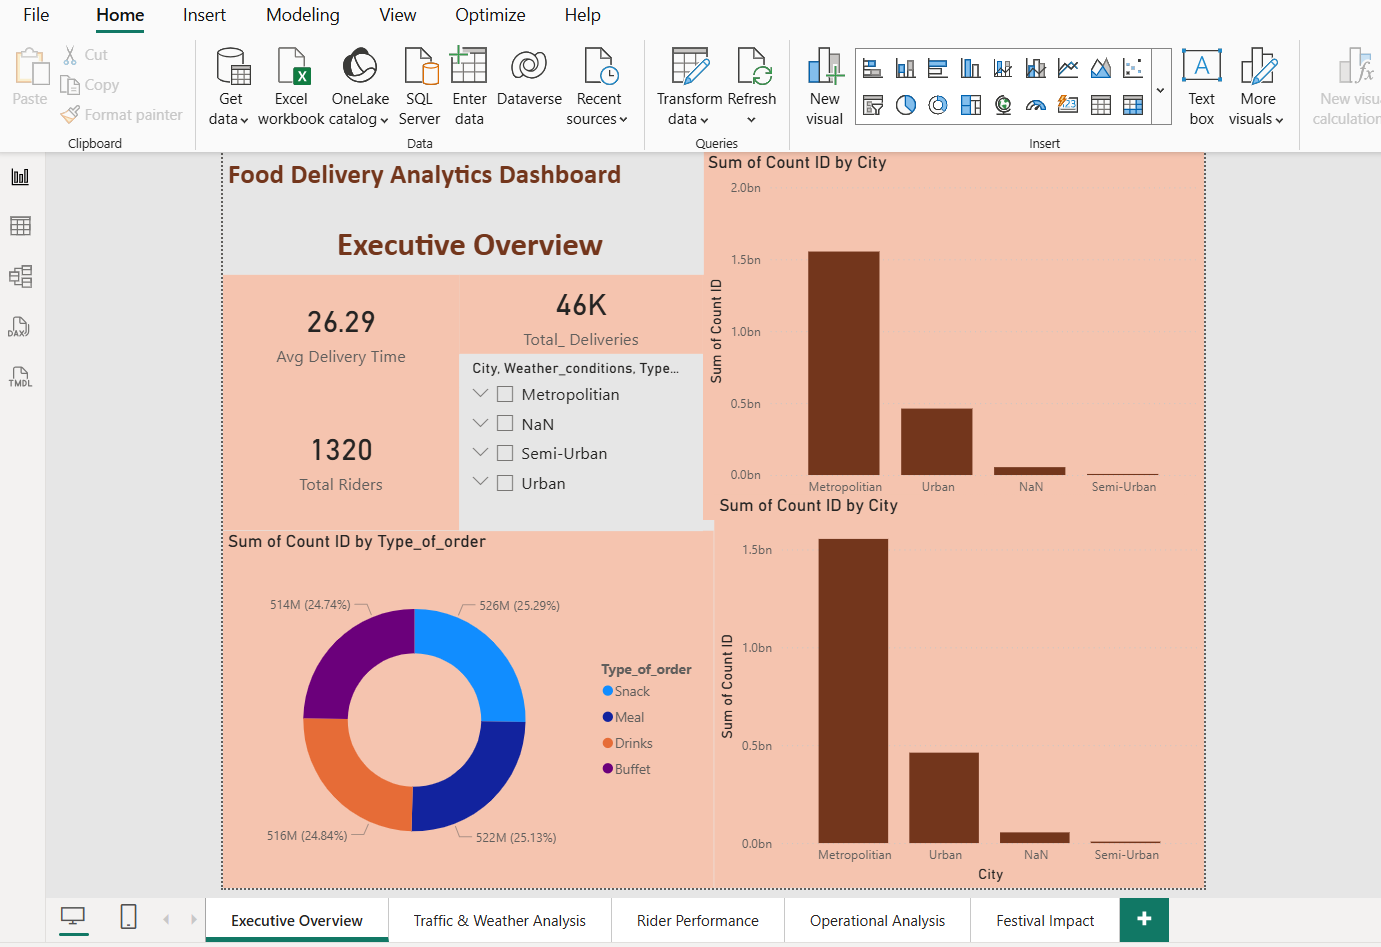

This screenshot's page, from the dashboard's own definition file:
{"tool":"powerbi","page":{"name":"Executive Overview","canvas":[960,720],"ordinal":0},"visuals":[{"type":"clusteredColumnChart","fields":{"Category":["data set.City"],"Y":["Sum(data set.Count ID)"]},"box":[470,0,490,360],"z":0},{"type":"donutChart","fields":{"Category":["data set.Type_of_order"],"Y":["Sum(data set.Count ID)"]},"box":[0,370,480,350],"z":1000},{"type":"clusteredColumnChart","fields":{"Category":["data set.City"],"Y":["Sum(data set.Count ID)"]},"box":[480,335,480,385],"z":2000},{"type":"card","fields":{"Values":["data set.Total_ Deliveries"]},"box":[231.2,120,238.8,77.5],"z":3000},{"type":"card","fields":{"Values":["data set.Avg Delivery Time"]},"box":[0,120,231.2,110],"z":4000},{"type":"card","fields":{"Values":["data set.Total Riders"]},"box":[0,230,231.2,140],"z":5000},{"type":"slicer","fields":{"Values":["data set.City","data set.Weather_conditions","data set.Type_of_vehicle"]},"box":[231.2,197.5,238.8,172.5],"z":6000},{"type":"textbox","box":[0,0,470,120],"z":10000}]}

Visuals, with their boxes on the page's 960x720 design canvas (x1, y1, x2, y2). These are canvas units, not pixel positions in the 1381x947 screenshot, which may show the page scaled, cropped or inside an application window:
clusteredColumnChart - data set.City x Sum(data set.Count ID): bbox=[470, 0, 960, 360]
donutChart - data set.Type_of_order x Sum(data set.Count ID): bbox=[0, 370, 480, 720]
clusteredColumnChart - data set.City x Sum(data set.Count ID): bbox=[480, 335, 960, 720]
card - data set.Total_ Deliveries: bbox=[231, 120, 470, 198]
card - data set.Avg Delivery Time: bbox=[0, 120, 231, 230]
card - data set.Total Riders: bbox=[0, 230, 231, 370]
slicer - data set.City x data set.Weather_conditions: bbox=[231, 198, 470, 370]
textbox: bbox=[0, 0, 470, 120]
